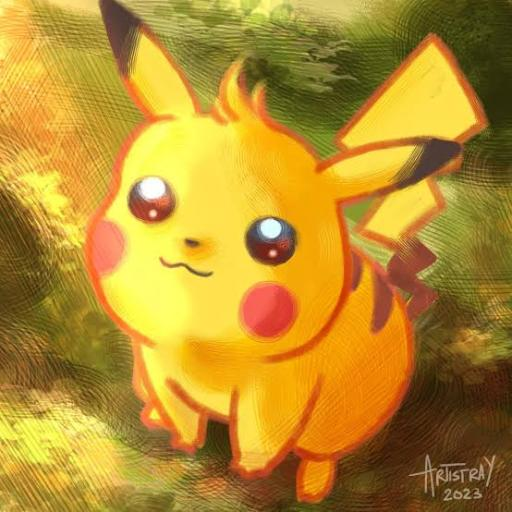Pikachu: (84, 0, 486, 504)
